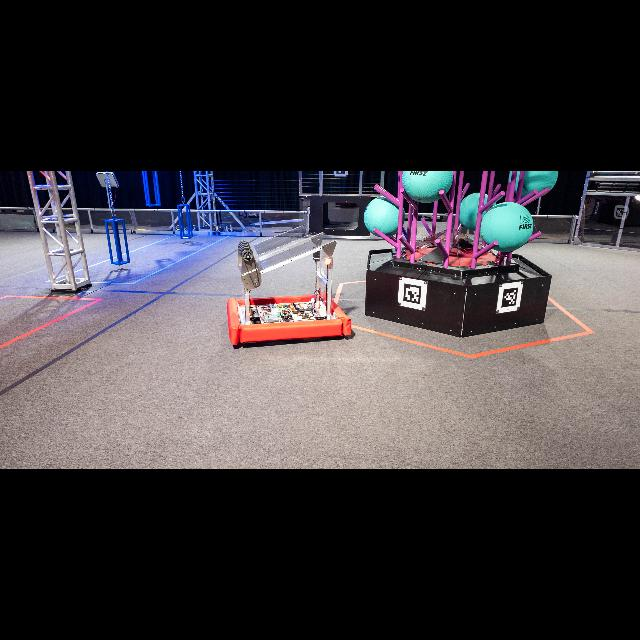ALGAE: (481, 202, 534, 252), (364, 196, 406, 238), (402, 172, 453, 202), (459, 193, 497, 230), (509, 171, 558, 197)
